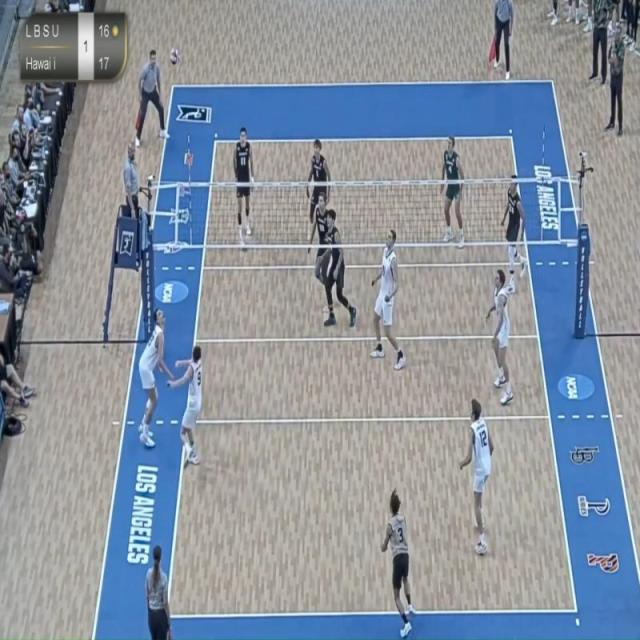volleyball: (167, 43, 182, 70)
